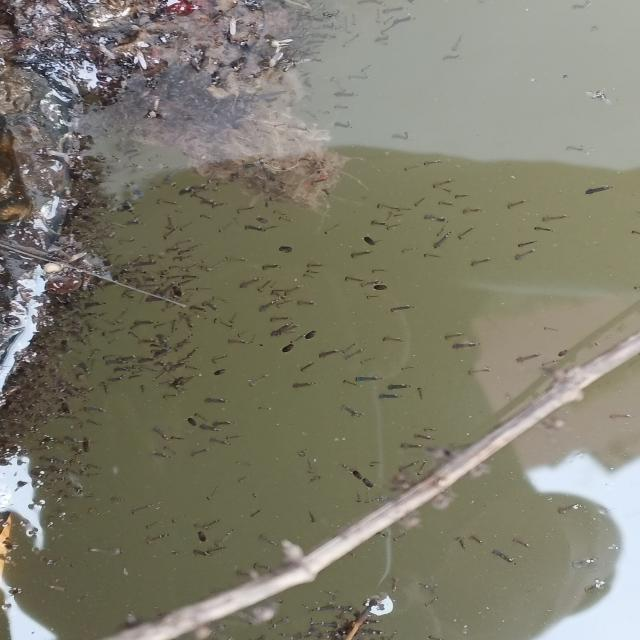Mosquito Swarm: (0, 0, 562, 550)
